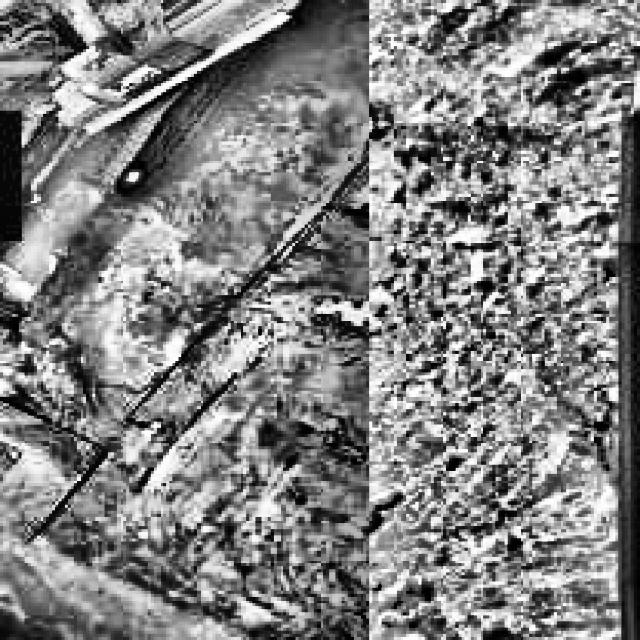dump_truck: (517, 0, 640, 640)
excavator: (0, 0, 314, 252)
